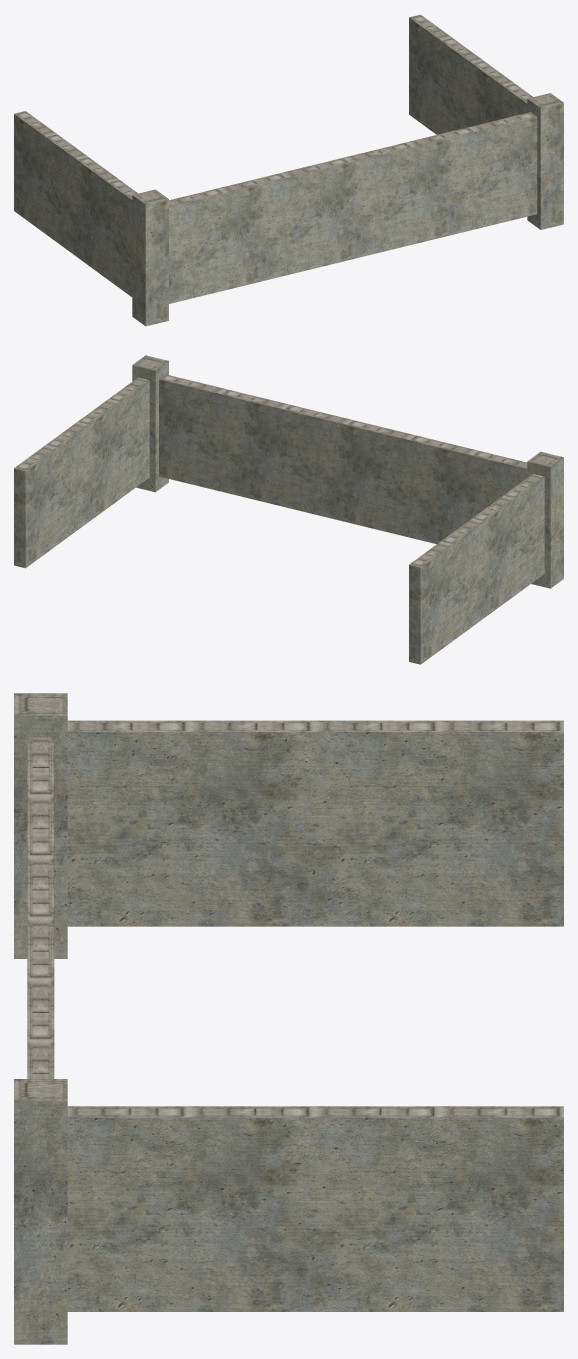
Rendered from poi_all_corral_pen_16x8_s01_l0.fbx.
The picture shows the model from 3 angles, top to bottom: view 1: azimuth 30°, elevation 25°; view 2: azimuth 150°, elevation 25°; view 3: azimuth 270°, elevation 25°; orthographic projection. The views are drawn at different scales.
Parts seen in each view (by area): view 1: mesh_node; view 2: mesh_node; view 3: mesh_node.
Boxes of the visible parts, bbox=[...] form: mesh_node: bbox=[14, 14, 563, 326]; mesh_node: bbox=[14, 355, 563, 664]; mesh_node: bbox=[14, 693, 563, 1344].
Bounding box in the file's own units: 18 × 5 × 10.25.
